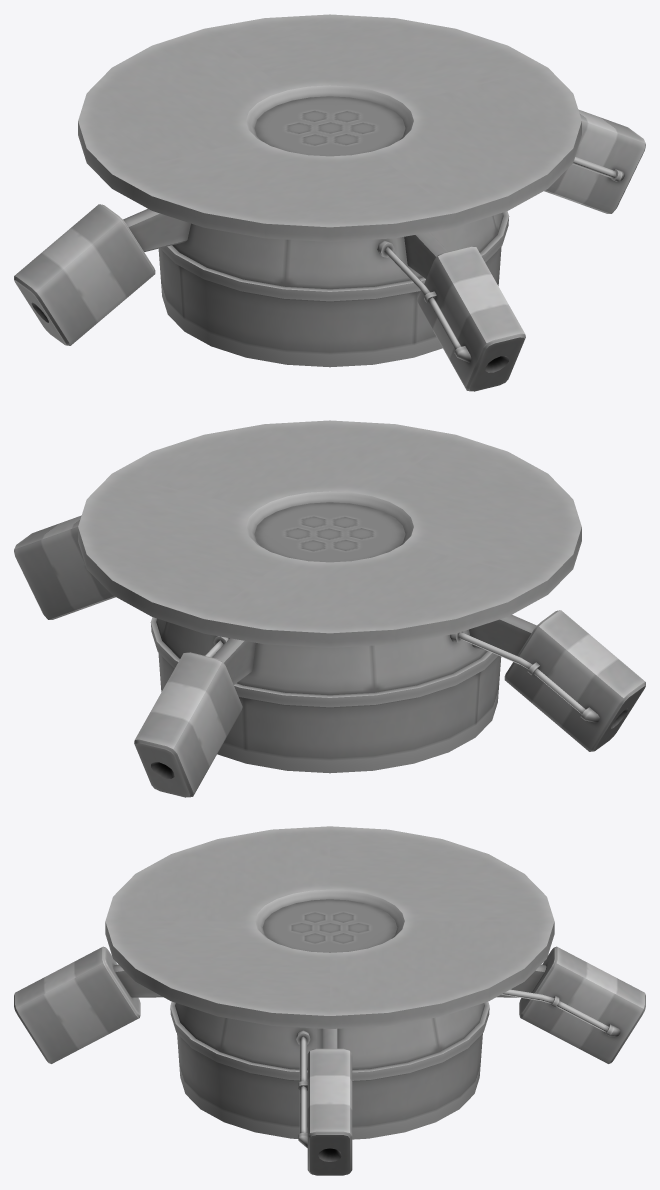
The model's file is Libra_RCS_1.obj.
3 renders of one model, top to bottom at view 1: azimuth 30°, elevation 25°; view 2: azimuth 150°, elevation 25°; view 3: azimuth 270°, elevation 25°, orthographic. The views are drawn at different scales.
Visible parts, largest first — view 1: Libra_RCS_1; view 2: Libra_RCS_1; view 3: Libra_RCS_1.
Boxes of the visible parts, x1,y1,x2,y2 form: Libra_RCS_1: (14, 14, 645, 391); Libra_RCS_1: (14, 420, 645, 797); Libra_RCS_1: (14, 826, 645, 1175).
Bounding box in the file's own units: 1.32 × 0.36 × 1.32.
